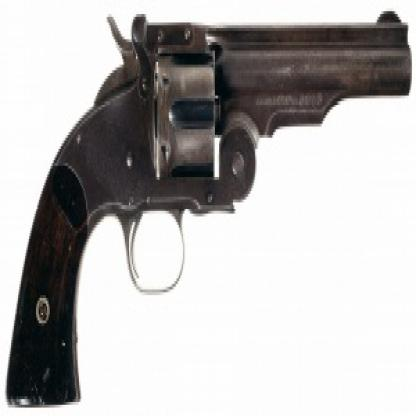Guns: (3, 3, 414, 413)
